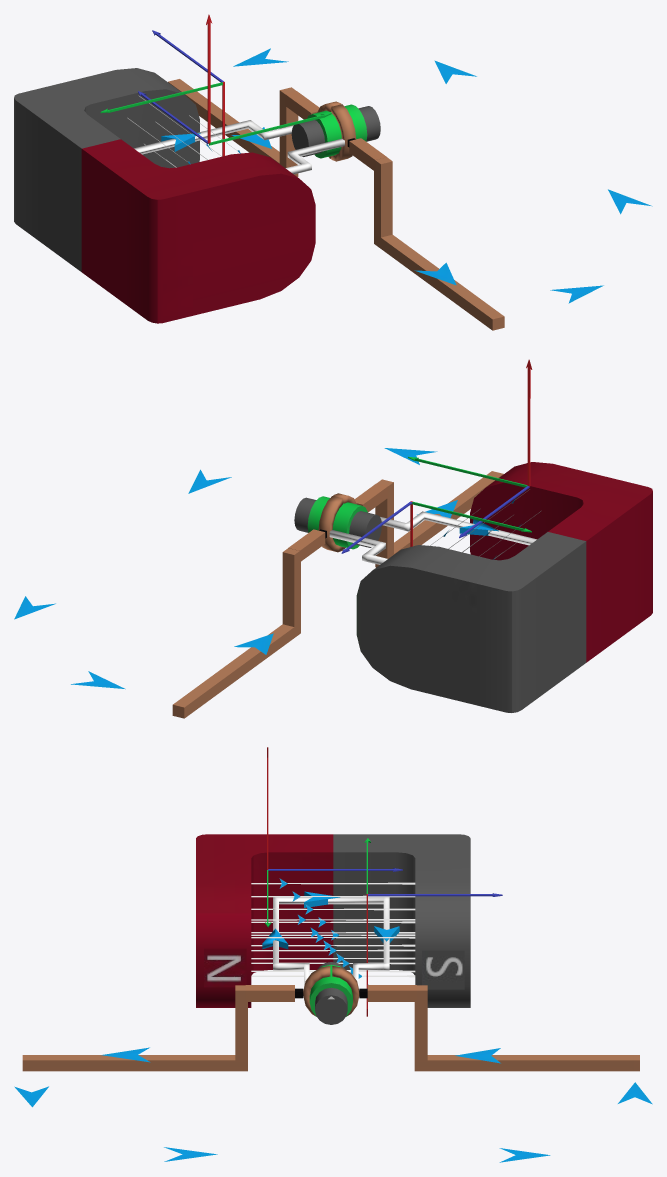
File: ForceonCoil.glb
The picture shows the model from 3 angles, top to bottom: view 1: azimuth 30°, elevation 25°; view 2: azimuth 150°, elevation 25°; view 3: azimuth 270°, elevation 25°; orthographic projection. The views are drawn at different scales.
Visible parts, largest first — view 1: Magnet, CoilStand, coil, currentwire, Rod, direction1, Insulator, direction2, Commutator; view 2: Magnet, CoilStand, coil, currentwire, Rod, direction1, Insulator, Commutator, direction2; view 3: Magnet, CoilStand, MField, Pole, coil, currentwire, Rod, Commutator, Insulator, direction2, direction1.
Part boxes in pixels (left/top/right/bottom): Magnet: left=14, top=68, right=315, bottom=323; CoilStand: left=168, top=79, right=504, bottom=330; coil: left=134, top=120, right=344, bottom=174; currentwire: left=231, top=48, right=652, bottom=303; Rod: left=291, top=106, right=380, bottom=156; direction1: left=138, top=14, right=331, bottom=145; Insulator: left=307, top=104, right=367, bottom=158; direction2: left=100, top=30, right=224, bottom=156; Commutator: left=317, top=101, right=356, bottom=161; Magnet: left=356, top=462, right=652, bottom=712; CoilStand: left=172, top=471, right=503, bottom=718; coil: left=329, top=511, right=536, bottom=564; currentwire: left=14, top=448, right=457, bottom=689; Rod: left=294, top=497, right=381, bottom=547; direction1: left=408, top=359, right=532, bottom=538; Insulator: left=307, top=496, right=367, bottom=549; Commutator: left=318, top=493, right=356, bottom=552; direction2: left=341, top=501, right=531, bottom=553; Magnet: left=196, top=834, right=470, bottom=1007; CoilStand: left=22, top=985, right=639, bottom=1071; MField: left=251, top=878, right=415, bottom=989; Pole: left=204, top=948, right=464, bottom=989; coil: left=273, top=897, right=389, bottom=986; currentwire: left=14, top=1047, right=652, bottom=1162; Rod: left=315, top=962, right=347, bottom=1024; Commutator: left=303, top=966, right=359, bottom=1016; Insulator: left=309, top=964, right=352, bottom=1016; direction2: left=364, top=838, right=502, bottom=1016; direction1: left=265, top=747, right=402, bottom=927.
Size of what is drawn, in the model's own units: 3.29 by 1.69 by 3.96.
Materials: 3 (3 with a texture image).
